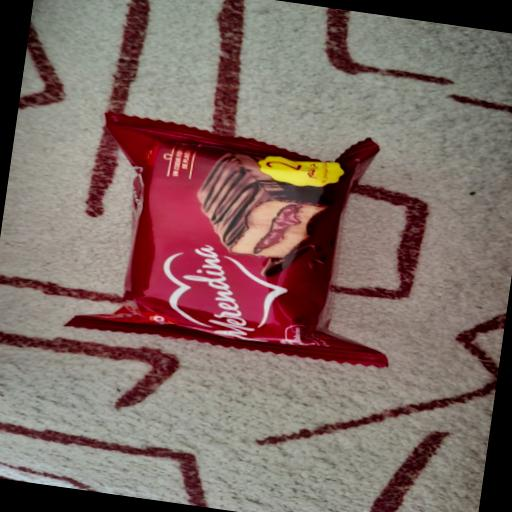merendina: (44, 80, 454, 416)
